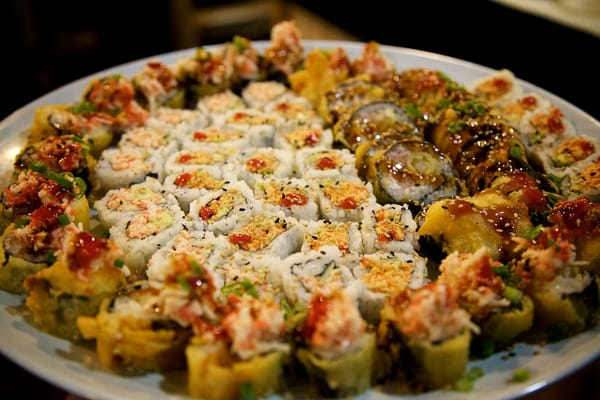sandwich: (0, 27, 597, 392)
